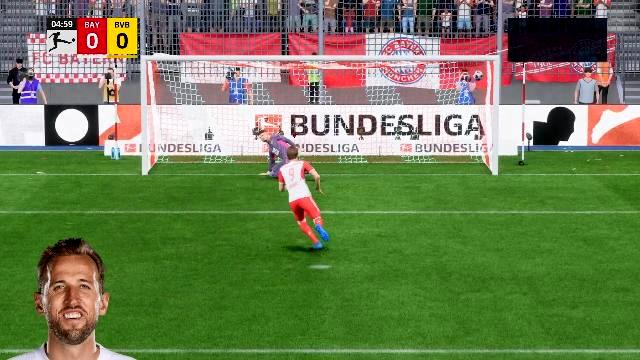bottom-left: (150, 124, 264, 176)
bottom-right: (381, 122, 494, 176)
center-down: (266, 124, 378, 176)
center-up: (266, 64, 378, 122)
football: (472, 70, 488, 80)
goalkeeper: (259, 114, 343, 176)
player: (272, 146, 348, 248)
top-left: (150, 63, 264, 123)
top-right: (381, 61, 494, 121)
